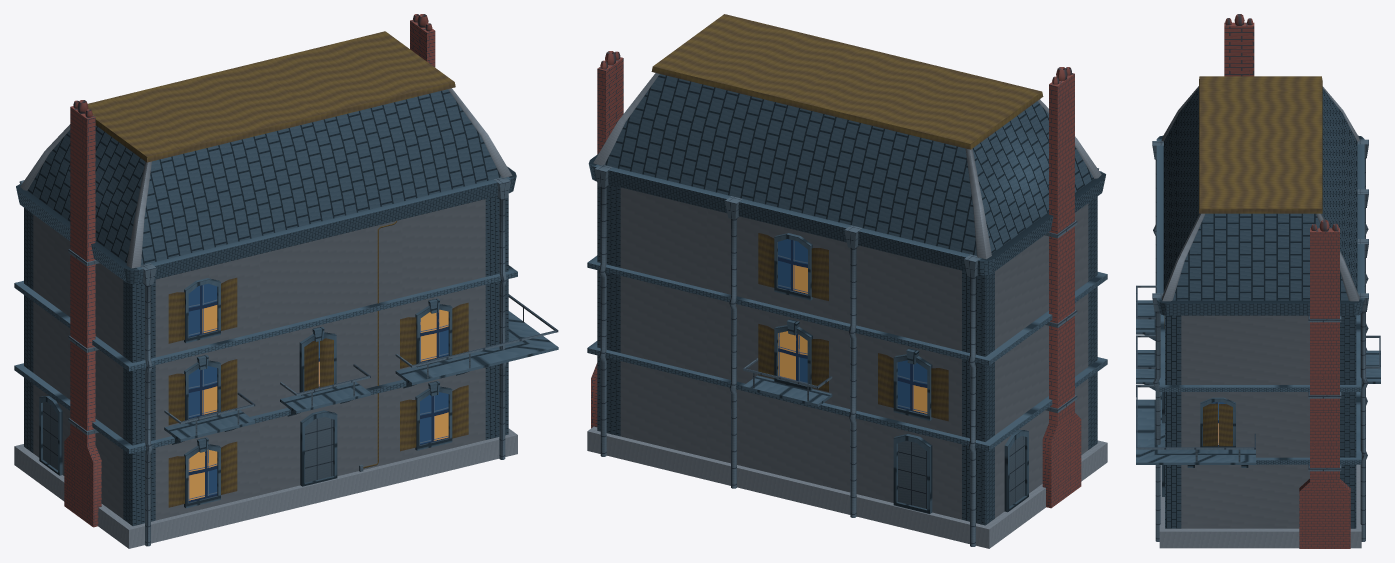
Rendered from market-house-c.glb.
3 renders of one model, left to right at view 1: azimuth 30°, elevation 25°; view 2: azimuth 150°, elevation 25°; view 3: azimuth 270°, elevation 25°, orthographic. The views are drawn at different scales.
Parts seen in each view (by area): view 1: stk_generic_Stucco_c.png__, stk_generic_asianRoof_b.png__, stktex_generic_tilesB.png__, stktex_generic_WoodD.png__, stk_generic_brickA.png__, stktex_generic_concreteA.png__, stktex_generic_WoodA.png__, stktex_windowsSet_a.png__, stk_metalRustedBlue_a.png__, stktex_generic_tilesA.png__, stk_metalDoor_a.png__, stk_generic_ironA.png__ (+1 smaller); view 2: stk_generic_Stucco_c.png__, stk_generic_asianRoof_b.png__, stktex_generic_tilesB.png__, stktex_generic_WoodD.png__, stk_generic_brickA.png__, stktex_generic_concreteA.png__, stk_metalRustedBlue_a.png__, stktex_generic_WoodA.png__, stktex_generic_tilesA.png__, stktex_windowsSet_a.png__, stk_metalDoor_a.png__, stk_generic_ironA.png__ (+1 smaller); view 3: stk_generic_Stucco_c.png__, stk_generic_asianRoof_b.png__, stktex_generic_tilesB.png__, stktex_generic_WoodD.png__, stk_generic_brickA.png__, stktex_generic_concreteA.png__, stk_metalRustedBlue_a.png__, stk_greyMetal_a.png__, stk_generic_ironA.png__, stktex_generic_tilesA.png__, stktex_generic_WoodA.png__.
Boxes of the visible parts, x1,y1,x2,y2 form: stk_generic_Stucco_c.png__: [33, 199, 485, 520]; stk_generic_asianRoof_b.png__: [27, 89, 500, 265]; stktex_generic_tilesB.png__: [15, 166, 558, 525]; stktex_generic_WoodD.png__: [87, 31, 455, 162]; stk_generic_brickA.png__: [64, 14, 435, 527]; stktex_generic_concreteA.png__: [14, 428, 517, 548]; stktex_generic_WoodA.png__: [168, 277, 468, 507]; stktex_windowsSet_a.png__: [188, 283, 448, 502]; stk_metalRustedBlue_a.png__: [68, 198, 506, 546]; stktex_generic_tilesA.png__: [14, 272, 517, 453]; stk_metalDoor_a.png__: [43, 402, 333, 482]; stk_generic_ironA.png__: [20, 88, 512, 268]; stk_generic_Stucco_c.png__: [620, 187, 1088, 519]; stk_generic_asianRoof_b.png__: [604, 74, 1093, 255]; stktex_generic_tilesB.png__: [588, 154, 1107, 525]; stktex_generic_WoodD.png__: [651, 14, 1043, 149]; stk_generic_brickA.png__: [591, 51, 1081, 508]; stktex_generic_concreteA.png__: [587, 426, 1107, 548]; stk_metalRustedBlue_a.png__: [599, 187, 1077, 546]; stktex_generic_WoodA.png__: [758, 233, 948, 421]; stktex_generic_tilesA.png__: [587, 262, 1107, 450]; stktex_windowsSet_a.png__: [778, 239, 927, 414]; stk_metalDoor_a.png__: [898, 436, 1024, 508]; stk_generic_ironA.png__: [593, 73, 1101, 259]; stk_generic_Stucco_c.png__: [1181, 315, 1309, 528]; stk_generic_asianRoof_b.png__: [1163, 88, 1357, 300]; stktex_generic_tilesB.png__: [1136, 135, 1380, 528]; stktex_generic_WoodD.png__: [1199, 76, 1322, 213]; stk_generic_brickA.png__: [1224, 14, 1350, 548]; stktex_generic_concreteA.png__: [1159, 464, 1361, 548]; stk_metalRustedBlue_a.png__: [1153, 158, 1368, 541]; stk_greyMetal_a.png__: [1136, 139, 1380, 462]; stk_generic_ironA.png__: [1161, 86, 1359, 301]; stktex_generic_tilesA.png__: [1159, 387, 1361, 464]; stktex_generic_WoodA.png__: [1203, 403, 1232, 446].
Bounding box in the file's own units: 39.75 × 37.28 × 22.63.
Materials: 15 (15 with a texture image).
